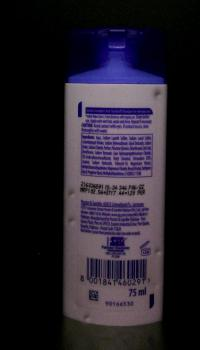dent_unacceptable: (148, 87, 166, 106), (65, 215, 81, 233), (66, 187, 82, 204), (78, 308, 96, 323), (151, 244, 164, 260), (151, 279, 162, 292)
